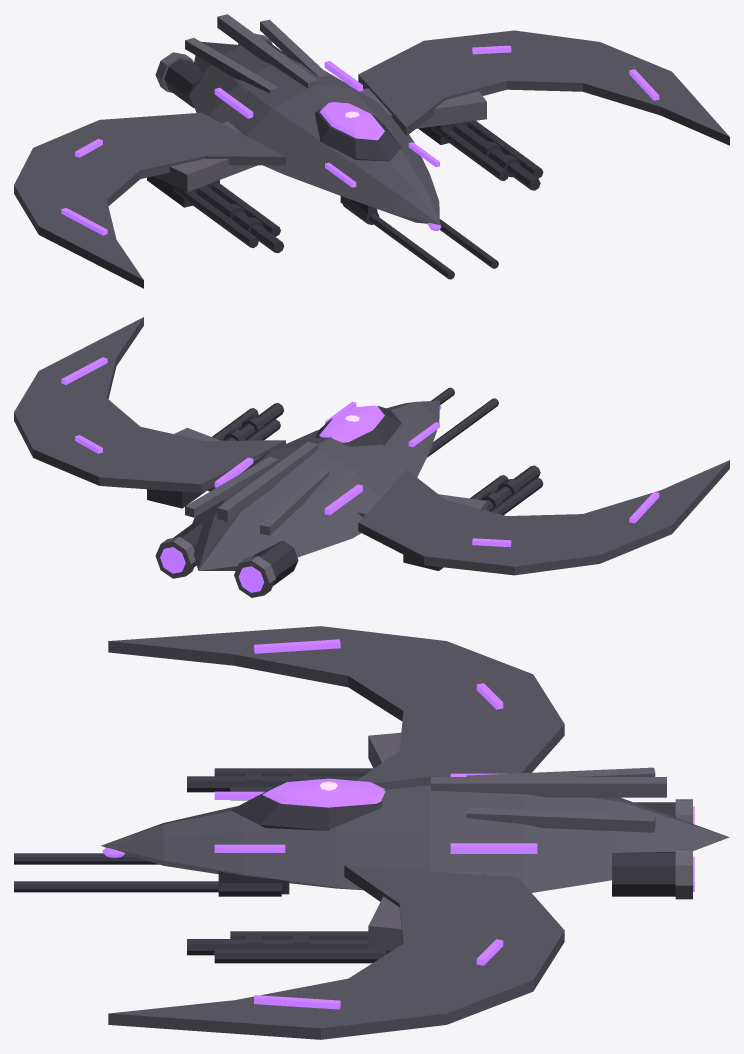
File: reaver.glb
3 views of the same model, one above another, from view 1: azimuth 30°, elevation 25°; view 2: azimuth 150°, elevation 25°; view 3: azimuth 270°, elevation 25° (orthographic). The views are drawn at different scales.
Parts seen in each view (by area): view 1: Reaver_Wing_S, Reaver_Wing_P, Reaver_Hull, Reaver_CanopyFrame, Reaver_SpineRidge, Reaver_WingSpar_P, Reaver_WingSpar_S, Reaver_Canopy, Reaver_SideRidge_P, Reaver_Engine_L, Reaver_WingBarrel_P2, Reaver_SideRidge_S (+9 smaller); view 2: Reaver_Wing_P, Reaver_Wing_S, Reaver_Hull, Reaver_SpineRidge, Reaver_Canopy, Reaver_SideRidge_S, Reaver_SideRidge_P, Reaver_CanopyFrame, Reaver_Engine_L, Reaver_NozzleRing_L, Reaver_NozzleRing_R, Reaver_ChinCannon_P (+7 smaller); view 3: Reaver_Hull, Reaver_Wing_S, Reaver_Wing_P, Reaver_SpineRidge, Reaver_SideRidge_S, Reaver_CanopyFrame, Reaver_Engine_R, Reaver_Canopy, Reaver_WingBarrel_S2, Reaver_ChinCannon_S, Reaver_WingBarrel_S1, Reaver_WingSpar_S (+11 smaller).
Part boxes in pixels (<box>): Reaver_Wing_S: <box>358,30,729,145</box>; Reaver_Wing_P: <box>14,112,285,288</box>; Reaver_Hull: <box>189,41,439,224</box>; Reaver_CanopyFrame: <box>314,109,401,161</box>; Reaver_SpineRidge: <box>217,14,318,88</box>; Reaver_WingSpar_P: <box>153,121,264,192</box>; Reaver_WingSpar_S: <box>360,88,486,128</box>; Reaver_Canopy: <box>320,102,384,140</box>; Reaver_SideRidge_P: <box>185,37,278,93</box>; Reaver_Engine_L: <box>164,59,203,107</box>; Reaver_WingBarrel_P2: <box>173,186,258,248</box>; Reaver_SideRidge_S: <box>260,19,329,78</box>; Reaver_Wing_P: <box>358,460,729,575</box>; Reaver_Wing_S: <box>14,317,285,492</box>; Reaver_Hull: <box>192,400,439,570</box>; Reaver_SpineRidge: <box>217,442,318,521</box>; Reaver_Canopy: <box>320,405,384,442</box>; Reaver_SideRidge_S: <box>185,456,278,517</box>; Reaver_SideRidge_P: <box>260,469,329,535</box>; Reaver_CanopyFrame: <box>315,406,401,446</box>; Reaver_Engine_L: <box>252,540,298,585</box>; Reaver_NozzleRing_L: <box>234,556,275,597</box>; Reaver_NozzleRing_R: <box>155,536,195,578</box>; Reaver_ChinCannon_P: <box>427,398,498,457</box>; Reaver_Hull: <box>101,776,729,892</box>; Reaver_Wing_S: <box>108,865,564,1039</box>; Reaver_Wing_P: <box>108,626,564,783</box>; Reaver_SpineRidge: <box>431,777,666,797</box>; Reaver_SideRidge_S: <box>466,807,655,832</box>; Reaver_CanopyFrame: <box>230,784,382,830</box>; Reaver_Engine_R: <box>612,852,675,896</box>; Reaver_Canopy: <box>262,778,385,807</box>; Reaver_WingBarrel_S2: <box>214,949,385,963</box>; Reaver_ChinCannon_S: <box>14,881,218,892</box>; Reaver_WingBarrel_S1: <box>187,939,370,955</box>; Reaver_WingSpar_S: <box>368,871,483,950</box>.
Size of the model in its own units: 12.1 by 1.6 by 9.1.
